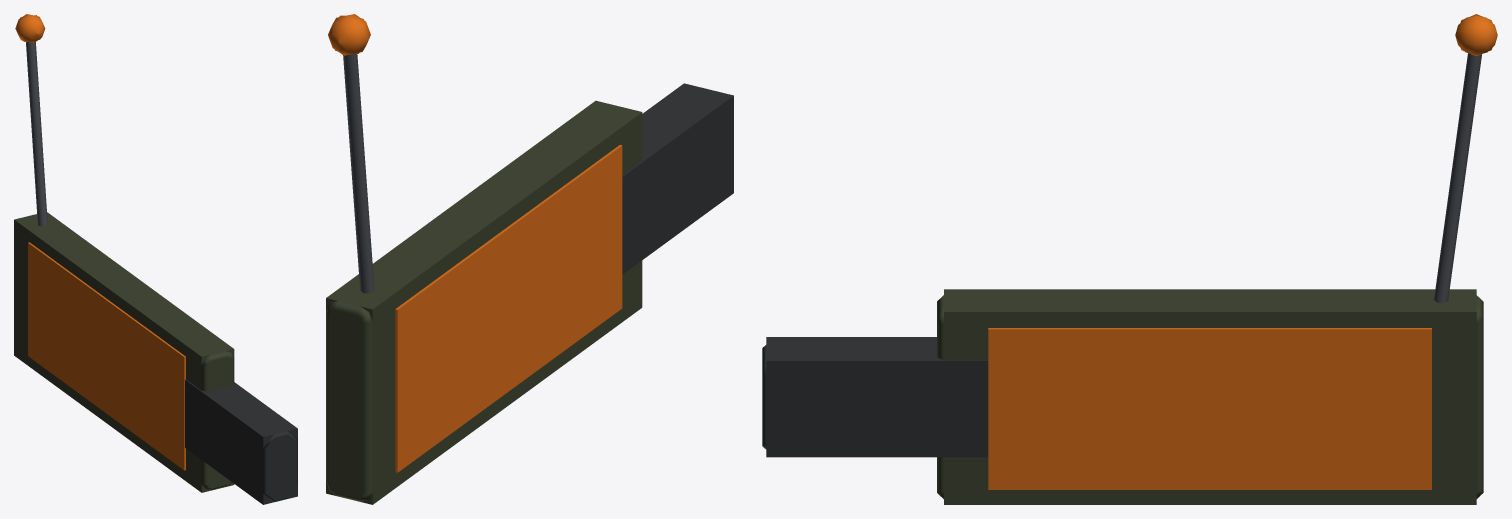
Rendered from st_air_m.glb.
3 views of the same model, side by side, from view 1: azimuth 30°, elevation 25°; view 2: azimuth 150°, elevation 25°; view 3: azimuth 270°, elevation 25° (orthographic). The views are drawn at different scales.
Visible parts, largest first — view 1: L0, L1; view 2: L0, L1; view 3: L0, L1.
Boxes of the visible parts, x1,y1,x2,y2 form: L0: (14, 14, 297, 502); L1: (14, 15, 297, 504); L0: (326, 14, 733, 501); L1: (326, 15, 733, 504); L0: (762, 15, 1497, 498); L1: (766, 14, 1492, 504).
Bounding box in the file's own units: 0.0332 × 0.297 × 0.4144.
